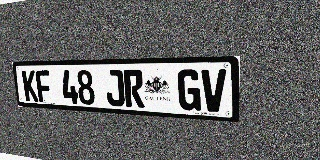4: (60, 70, 79, 104)
8: (76, 70, 95, 105)
F: (35, 70, 53, 102)
G: (177, 69, 201, 111)
J: (105, 70, 125, 107)
K: (21, 70, 39, 102)
R: (123, 70, 145, 108)
V: (201, 69, 226, 112)
